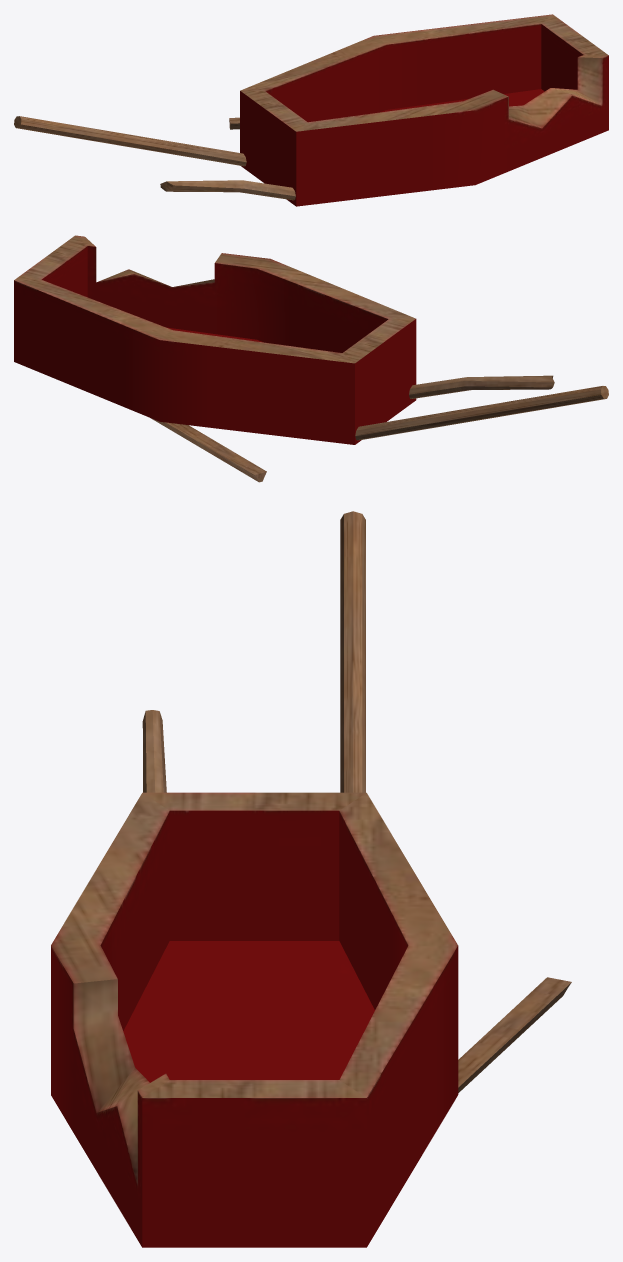
File: sled1.gltf
3 views of the same model, one above another, from view 1: azimuth 30°, elevation 25°; view 2: azimuth 150°, elevation 25°; view 3: azimuth 270°, elevation 25° (orthographic). The views are drawn at different scales.
Parts seen in each view (by area): view 1: sled.008, pCylinder2.008, pCylinder1.008; view 2: sled.008, pCylinder2.008, pCylinder1.008, polySurface4.001; view 3: sled.008, pCylinder2.008, polySurface4.001, pCylinder1.008.
Part boxes in pixels (box(x1,y1,x2,y2)): sled.008: box(240, 14, 608, 206); pCylinder2.008: box(14, 116, 246, 166); pCylinder1.008: box(160, 180, 295, 200); sled.008: box(14, 235, 416, 444); pCylinder2.008: box(355, 386, 608, 440); pCylinder1.008: box(409, 375, 554, 398); polySurface4.001: box(150, 418, 266, 482); sled.008: box(51, 792, 458, 1247); pCylinder2.008: box(340, 511, 365, 792); polySurface4.001: box(458, 977, 571, 1092); pCylinder1.008: box(142, 710, 166, 792).
Size of the model in its own units: 0.1427 by 0.0288 by 0.0596.
Materials: 5 (5 with a texture image).
